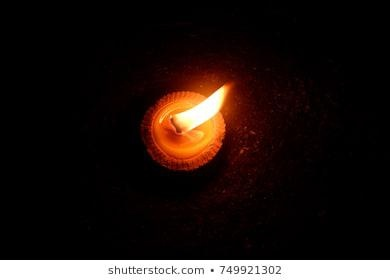fire: (174, 81, 229, 130)
